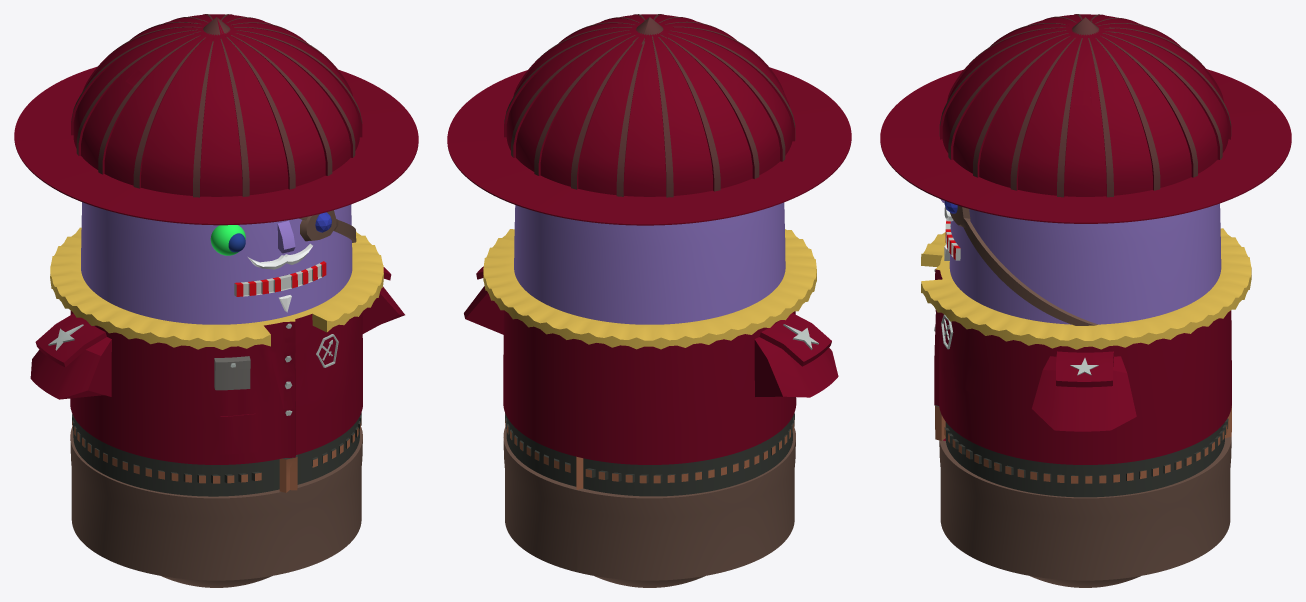
Rendered from Piyer.fbx.
3 renders of one model, left to right at view 1: azimuth 30°, elevation 25°; view 2: azimuth 150°, elevation 25°; view 3: azimuth 270°, elevation 25°, orthographic.
Parts seen in each view (by area): view 1: Sphere, Sphere.001; view 2: Sphere; view 3: Sphere.
Part boxes in pixels (x1,y1,x2,y2): Sphere: (14,14,418,587); Sphere.001: (210,225,245,255); Sphere: (447,14,851,587); Sphere: (880,14,1291,587).
Bounding box in the file's own units: 267 × 406 × 271.
